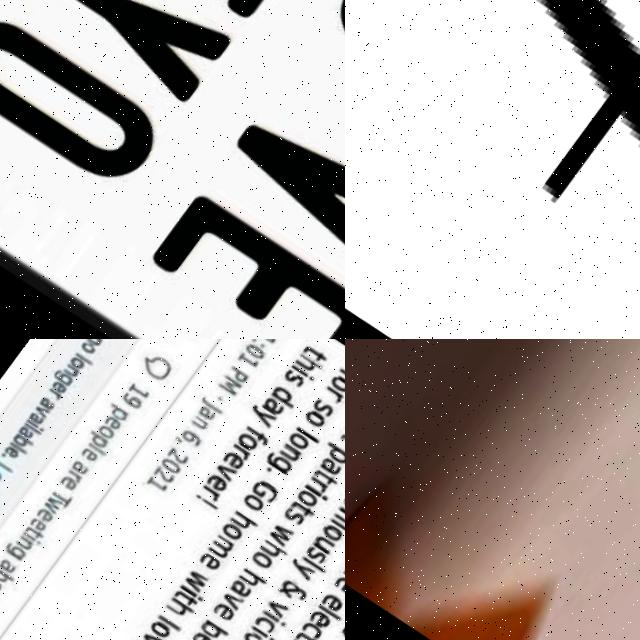0: (0, 0, 192, 202), (242, 343, 266, 364), (161, 457, 185, 477)
1: (146, 476, 172, 497), (127, 383, 151, 403), (235, 354, 260, 373), (252, 339, 277, 349)
2: (153, 466, 180, 488), (167, 448, 191, 468)
6: (181, 430, 205, 450)
9: (121, 392, 145, 413)
E: (147, 188, 345, 339)
T: (345, 0, 640, 287)
V: (211, 92, 345, 304)
Y: (0, 0, 252, 115)
